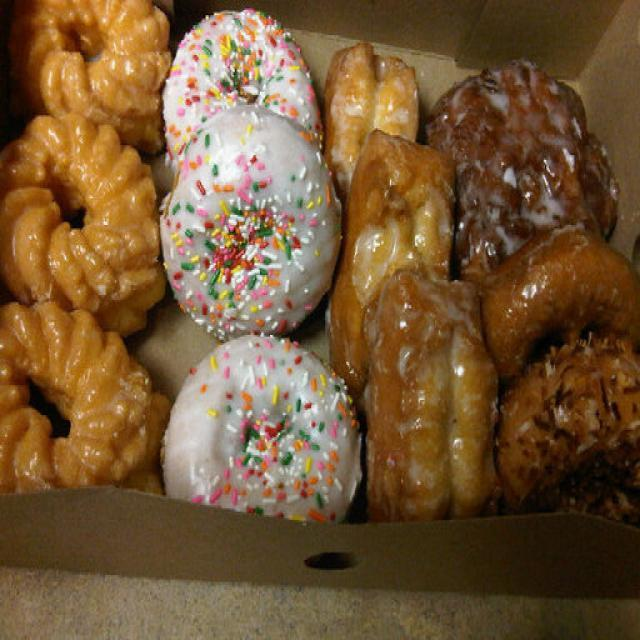Donuts: (2, 2, 640, 547)
